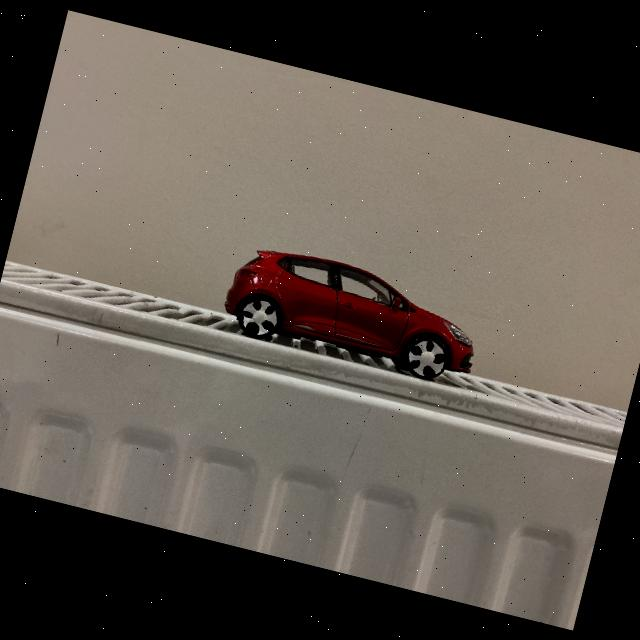Yanlis_Jant: (402, 334, 448, 380), (236, 295, 282, 339)
